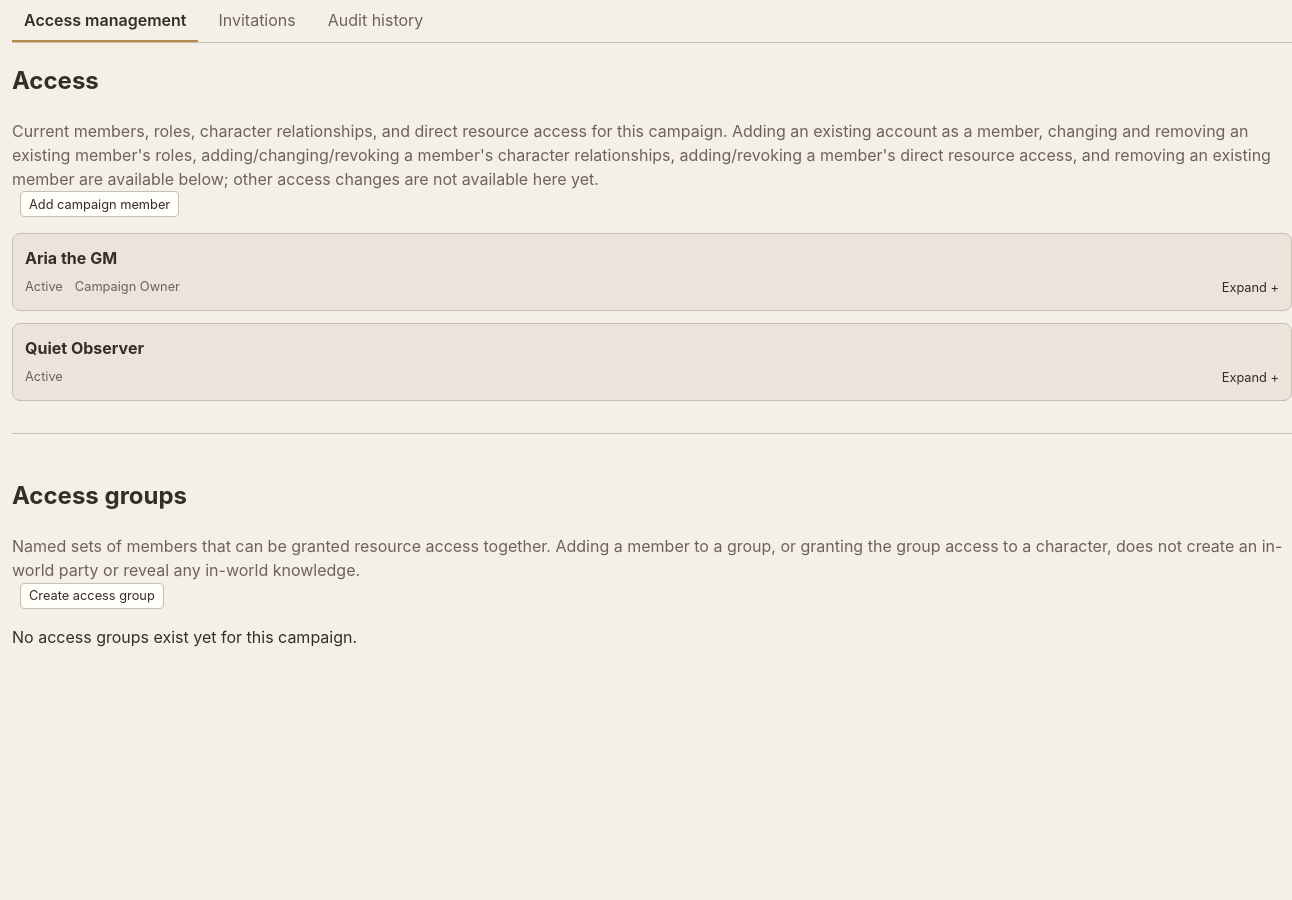
Scenario: CampaignAccessPage add-member flow › reports a conflict for an account/campaign/role that changed underneath the request
Expected: the heading "Access" is shown, [12,66,99,95]
Click the button "Add campaign member". click: [100, 204]
box: [20,191,179,217]
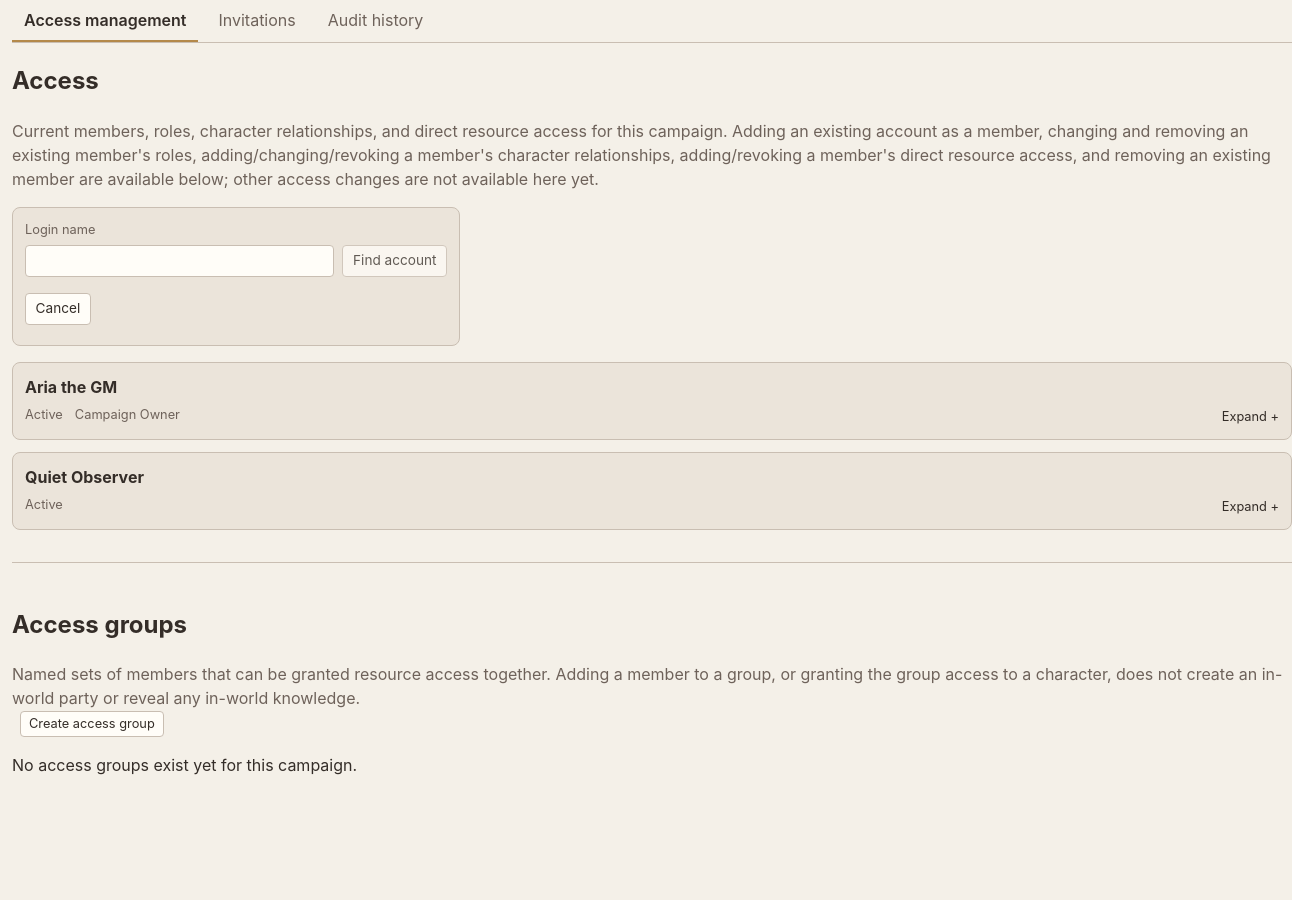
Type "player.one" into the field labelled "Login name". click: [180, 261]
box: [25,245,334,277]
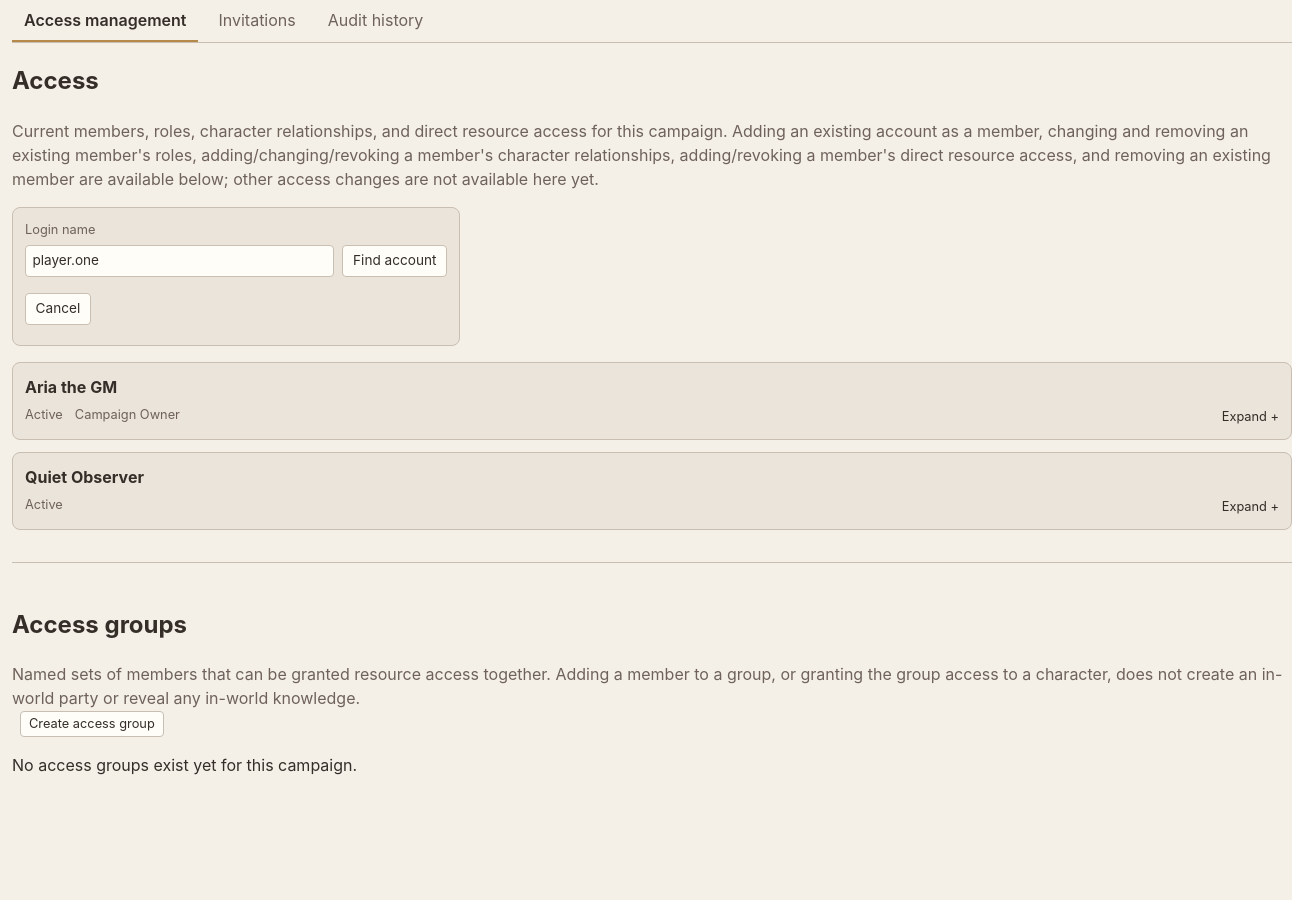
Click the button "Find account". click: [395, 261]
box: [342,245,447,277]
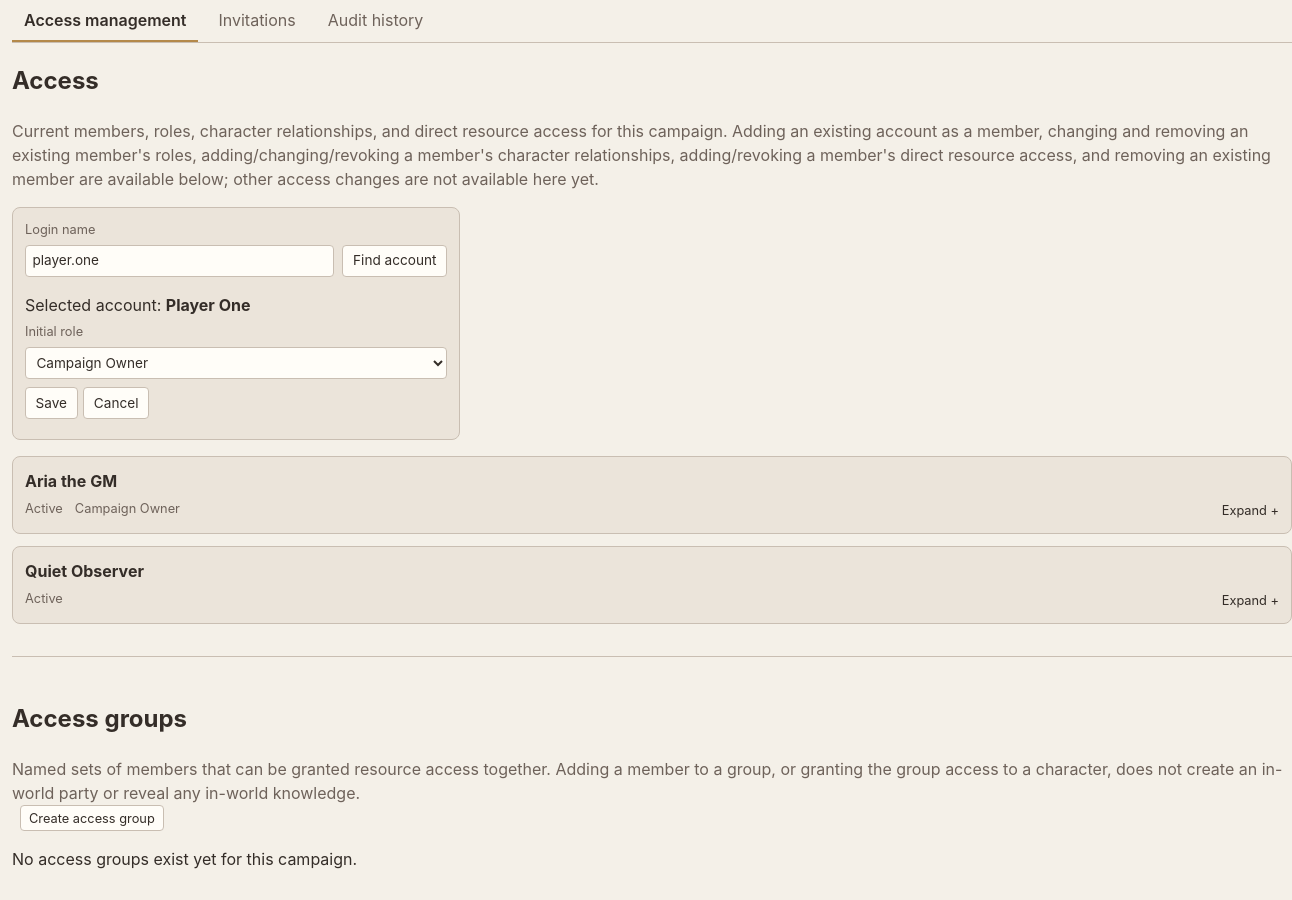
Click the button "Save". click: [51, 403]
box: [25,387,78,419]
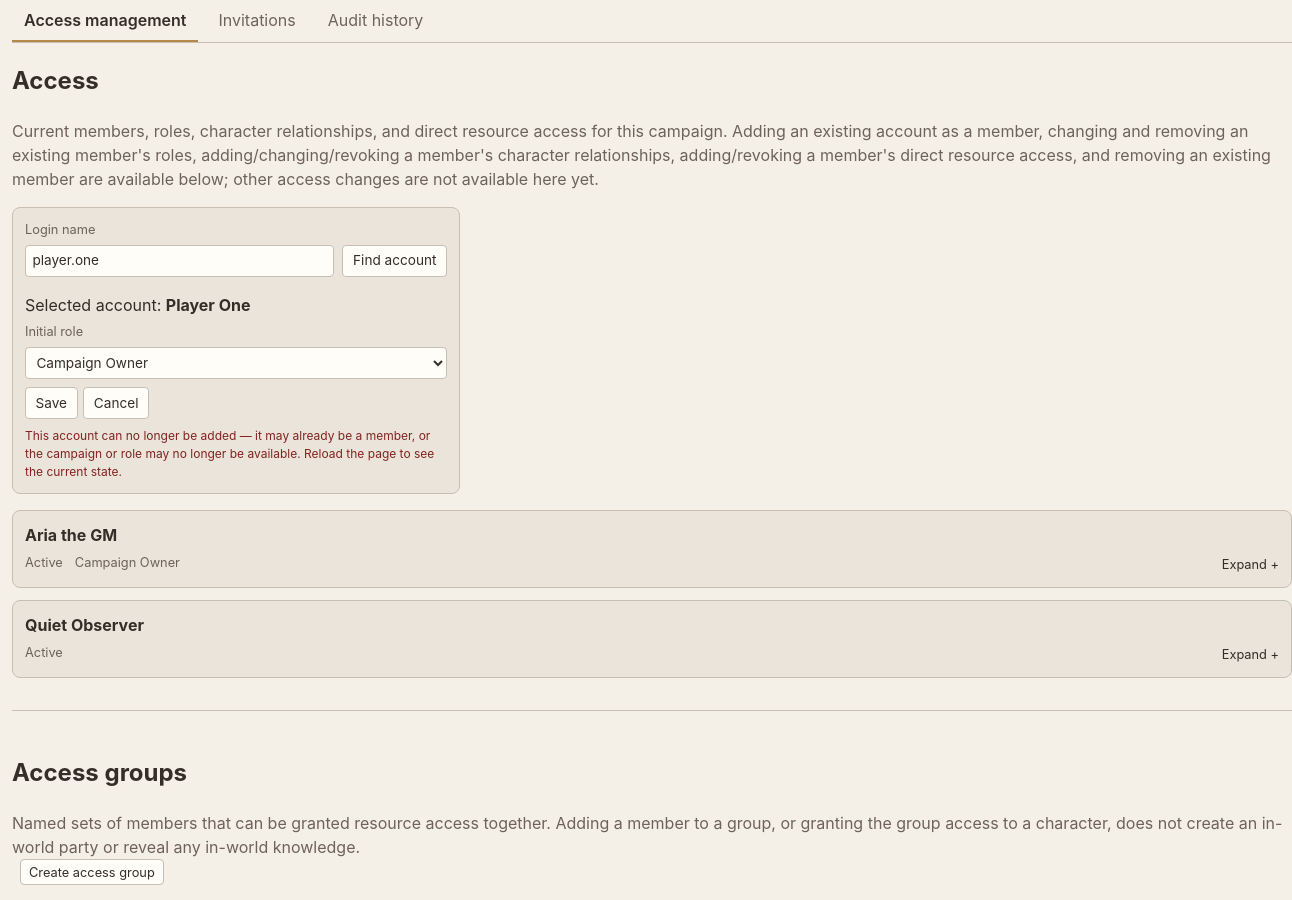
Result: the text "This account can no longer be added — it may already be a member, or the campaign or role may no longer be available. Re" is shown at [25,428,434,479]
